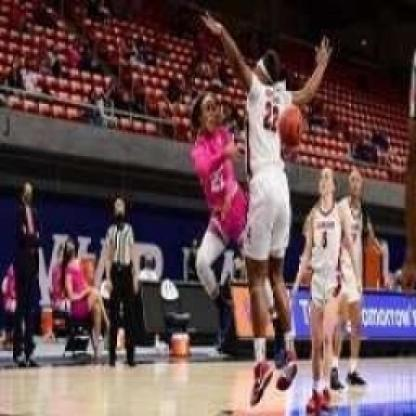basketball: (276, 102, 307, 146)
